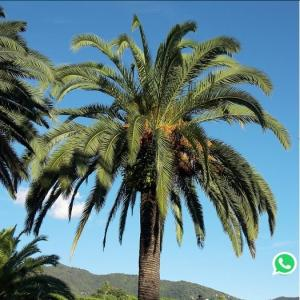palm tree: (21, 13, 292, 299), (0, 224, 73, 300)
